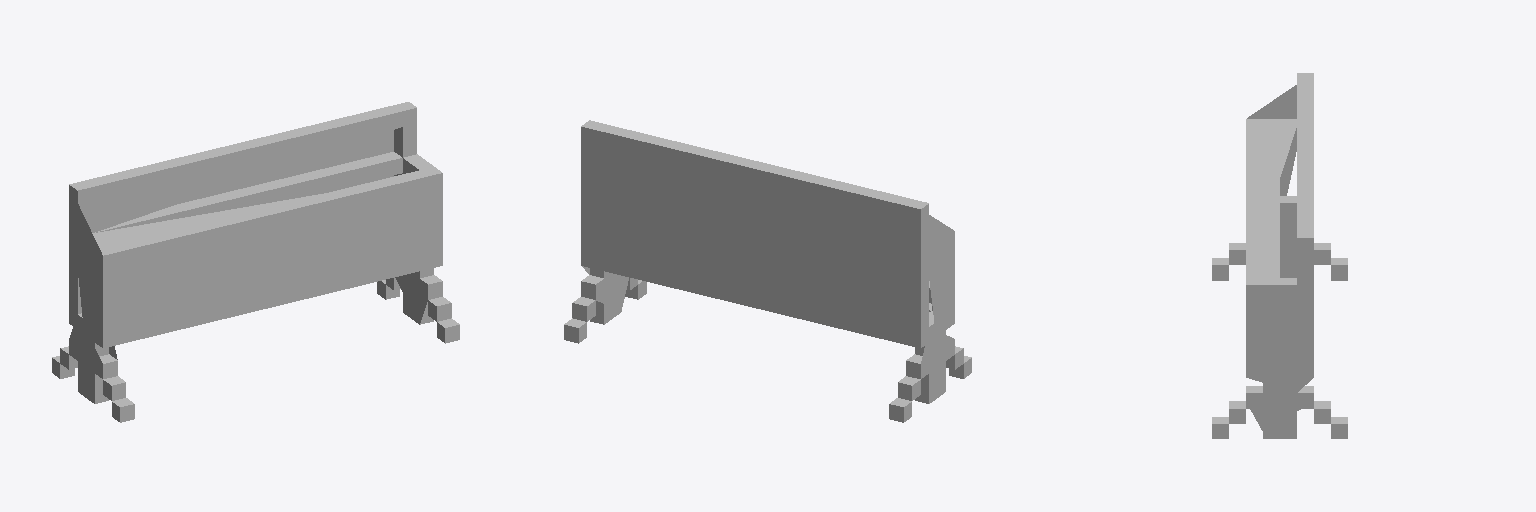
File: Weapons_Stand.obj
3 renders of one model, left to right at view 1: azimuth 30°, elevation 25°; view 2: azimuth 150°, elevation 25°; view 3: azimuth 270°, elevation 25°, orthographic.
Parts seen in each view (by area): view 1: Weapons_Stand_Weapons_Stand.001; view 2: Weapons_Stand_Weapons_Stand.001; view 3: Weapons_Stand_Weapons_Stand.001.
Part boxes in pixels (x1,y1,x2,y2): Weapons_Stand_Weapons_Stand.001: (52, 102, 459, 422); Weapons_Stand_Weapons_Stand.001: (564, 120, 971, 422); Weapons_Stand_Weapons_Stand.001: (1212, 73, 1347, 438).
Bounding box in the file's own units: 2.3 × 1.3 × 0.8.